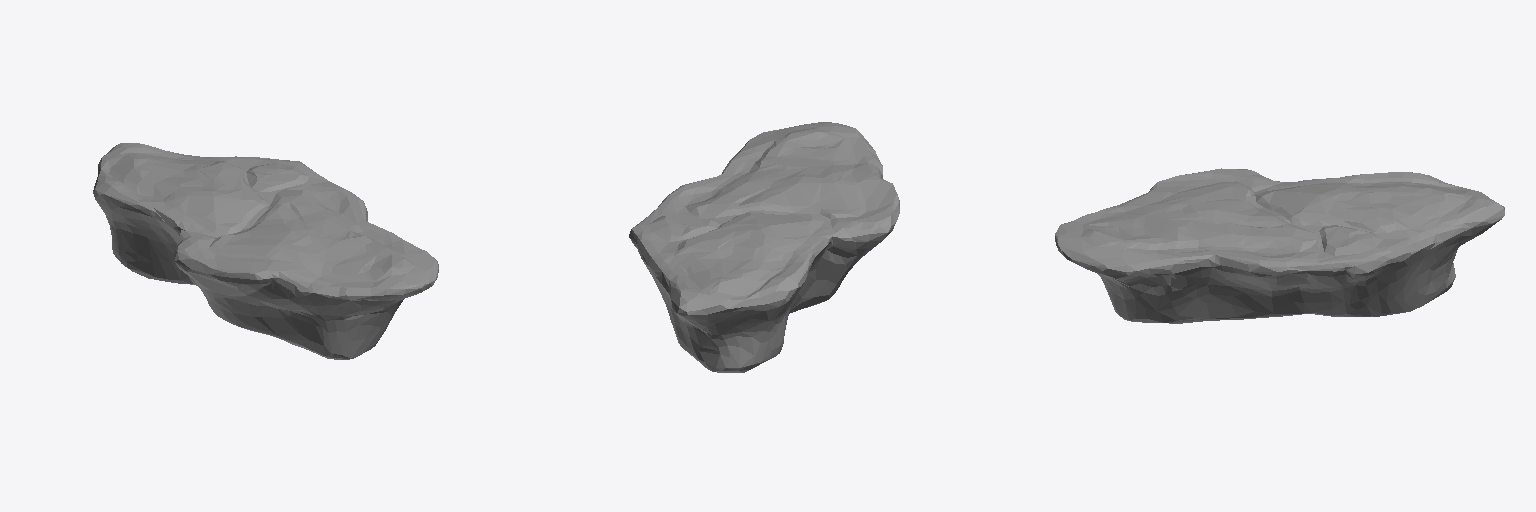
File: Cliff_flatten_01.obj
3 views of the same model, side by side, from view 1: azimuth 30°, elevation 25°; view 2: azimuth 150°, elevation 25°; view 3: azimuth 270°, elevation 25° (orthographic).
Parts seen in each view (by area): view 1: g Group44936_Group44936; view 2: g Group44936_Group44936; view 3: g Group44936_Group44936.
Boxes of the visible parts, x1=… form: g Group44936_Group44936: x1=93, y1=143, x2=438, y2=359; g Group44936_Group44936: x1=629, y1=122, x2=899, y2=372; g Group44936_Group44936: x1=1055, y1=168, x2=1504, y2=323.
Bounding box in the file's own units: 0.5771 × 0.2756 × 1.11.